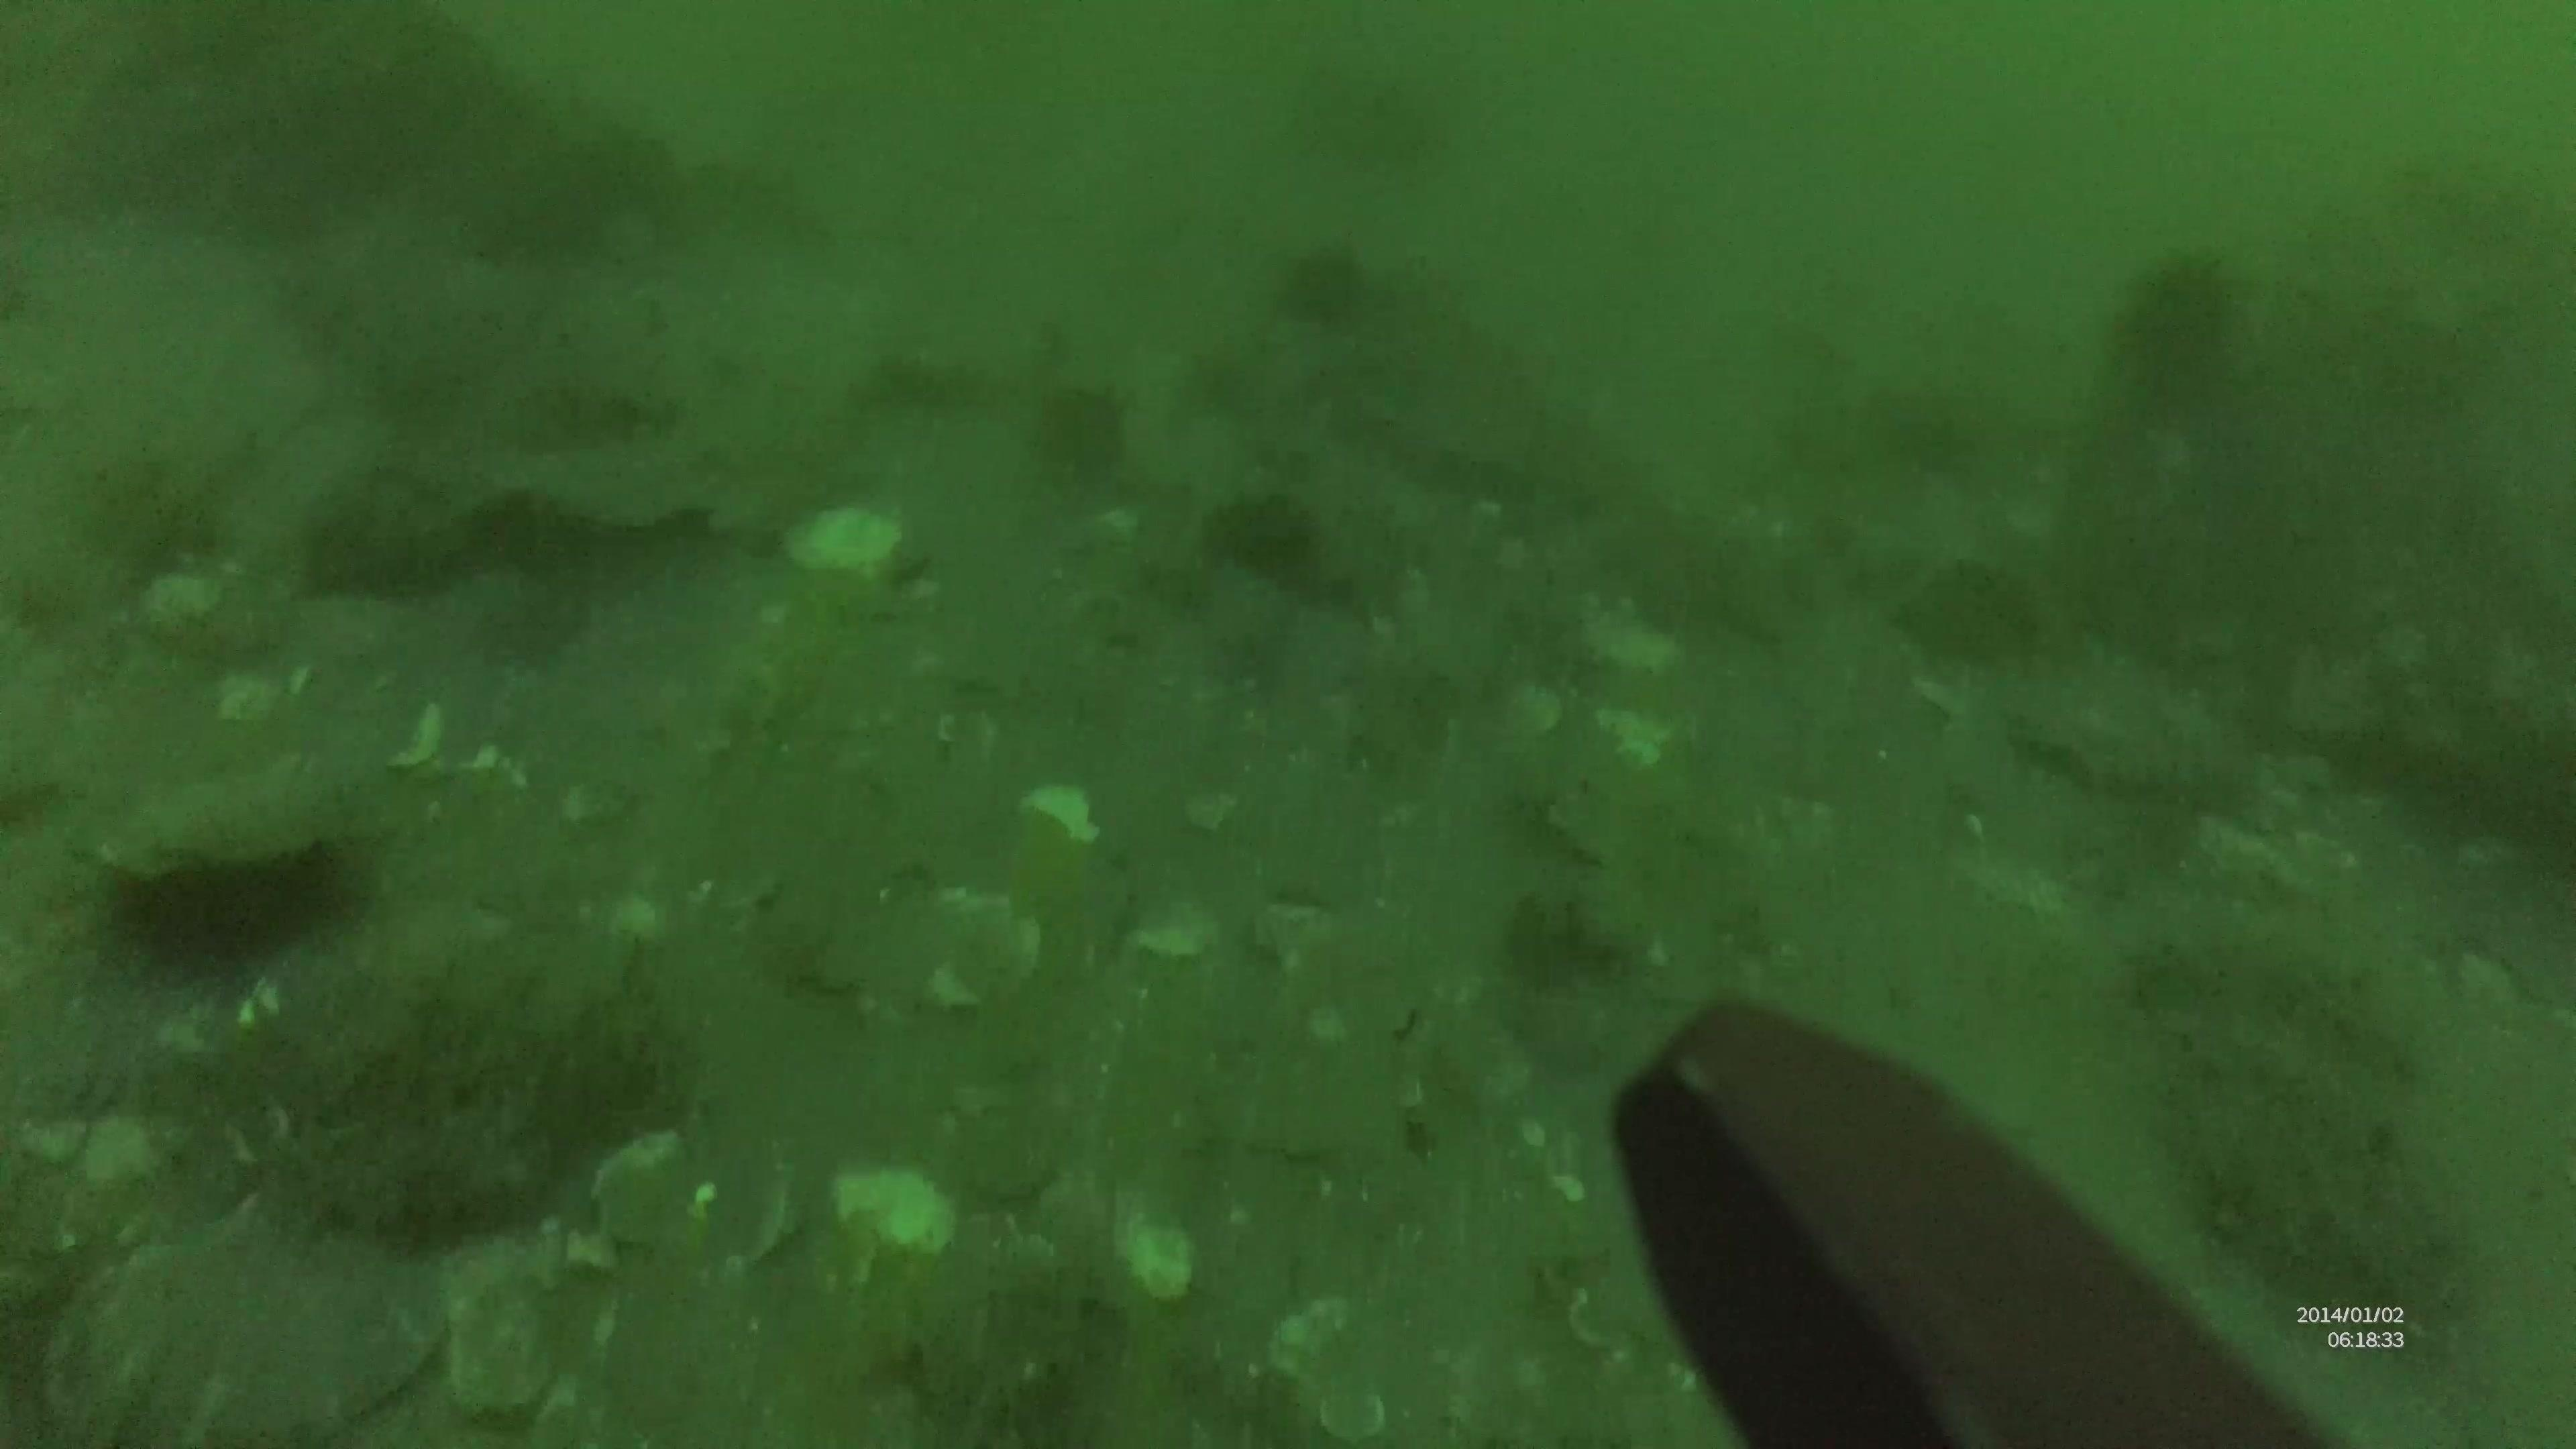echinus: (81, 824, 350, 984), (2104, 246, 2249, 416), (1026, 377, 1136, 488), (1270, 237, 1380, 336)
